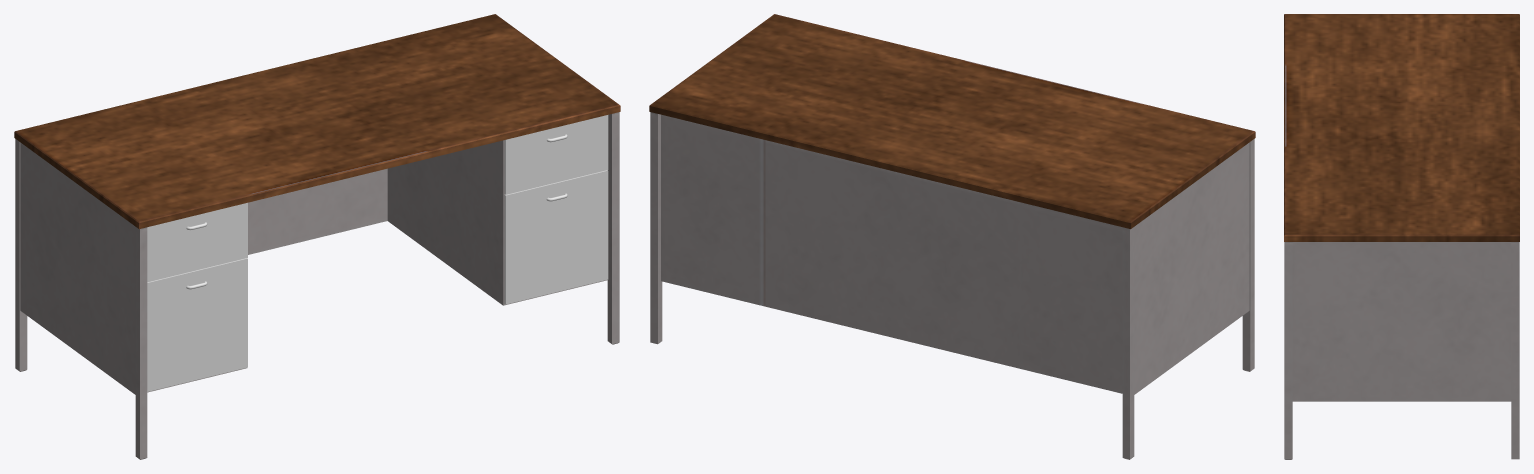
The model's file is Table.fbx.
The picture shows the model from 3 angles, left to right: view 1: azimuth 30°, elevation 25°; view 2: azimuth 150°, elevation 25°; view 3: azimuth 270°, elevation 25°; orthographic projection. The views are drawn at different scales.
Visible parts, largest first — view 1: Table; view 2: Table; view 3: Table.
Boxes of the visible parts, left/top/right/bottom form: Table: left=14, top=14, right=620, bottom=459; Table: left=649, top=14, right=1255, bottom=459; Table: left=1284, top=14, right=1519, bottom=459.
Size of the model in its own units: 513 by 243 by 230.
